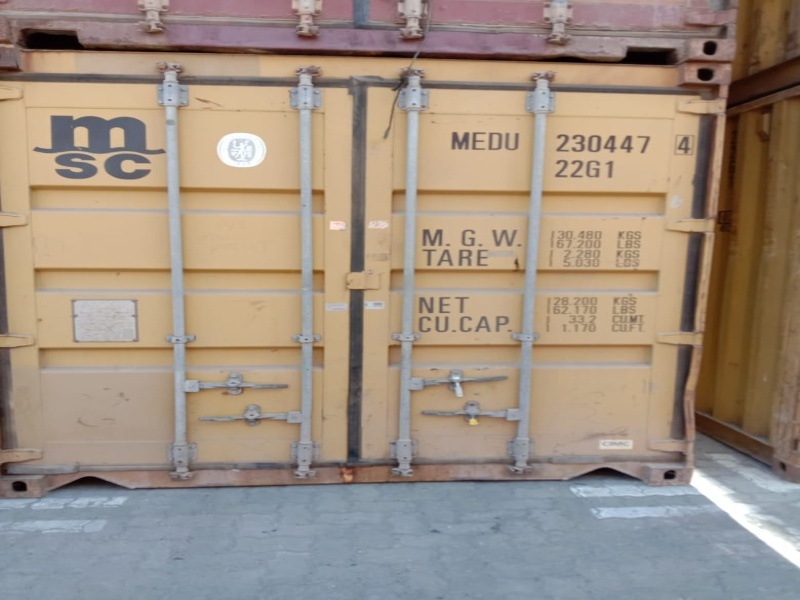iso: (551, 159, 621, 182)
mgw: (418, 222, 648, 251)
serial: (441, 125, 700, 159)
